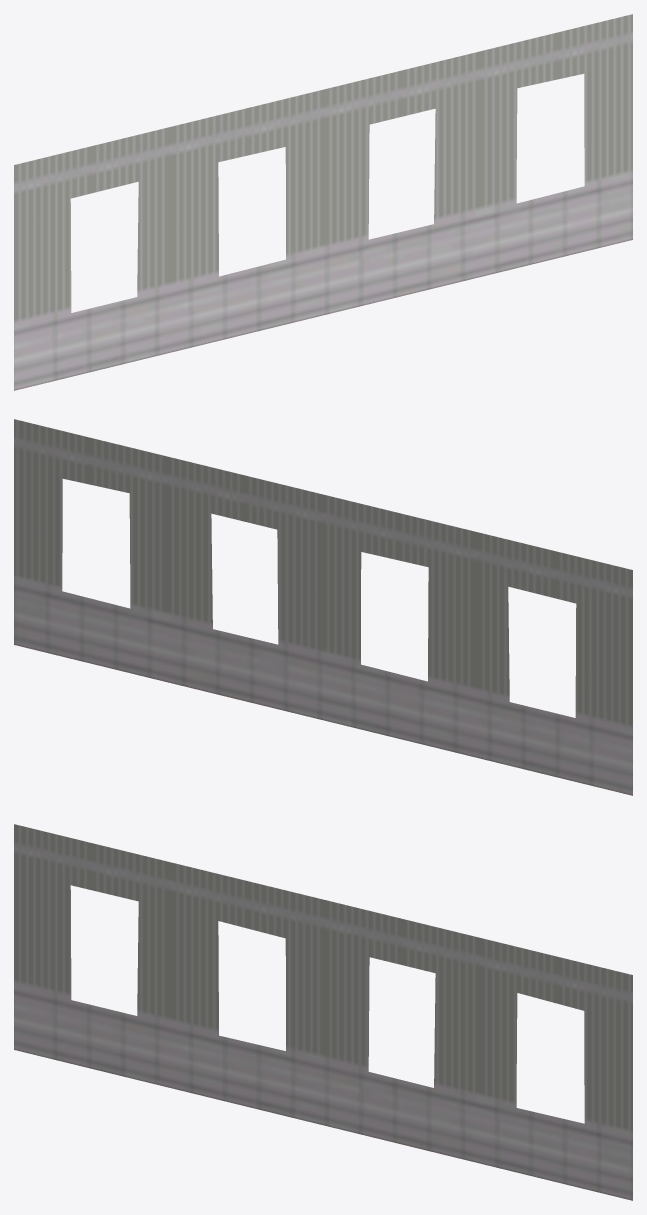
File: W_AI3_ffff [GraueStreifen]_2314.glb
The picture shows the model from 3 angles, top to bottom: view 1: azimuth 30°, elevation 25°; view 2: azimuth 150°, elevation 25°; view 3: azimuth 330°, elevation 25°; orthographic projection.
Parts seen in each view (by area): view 1: polySurfaceShape772; view 2: polySurfaceShape772; view 3: polySurfaceShape772.
Part boxes in pixels (x1,y1,x2,y2): polySurfaceShape772: (14, 14, 632, 390); polySurfaceShape772: (14, 419, 632, 795); polySurfaceShape772: (14, 824, 632, 1200).
Bounding box in the file's own units: 1 × 0.3486 × 1.52e-08.
1 material, 1 textured.
